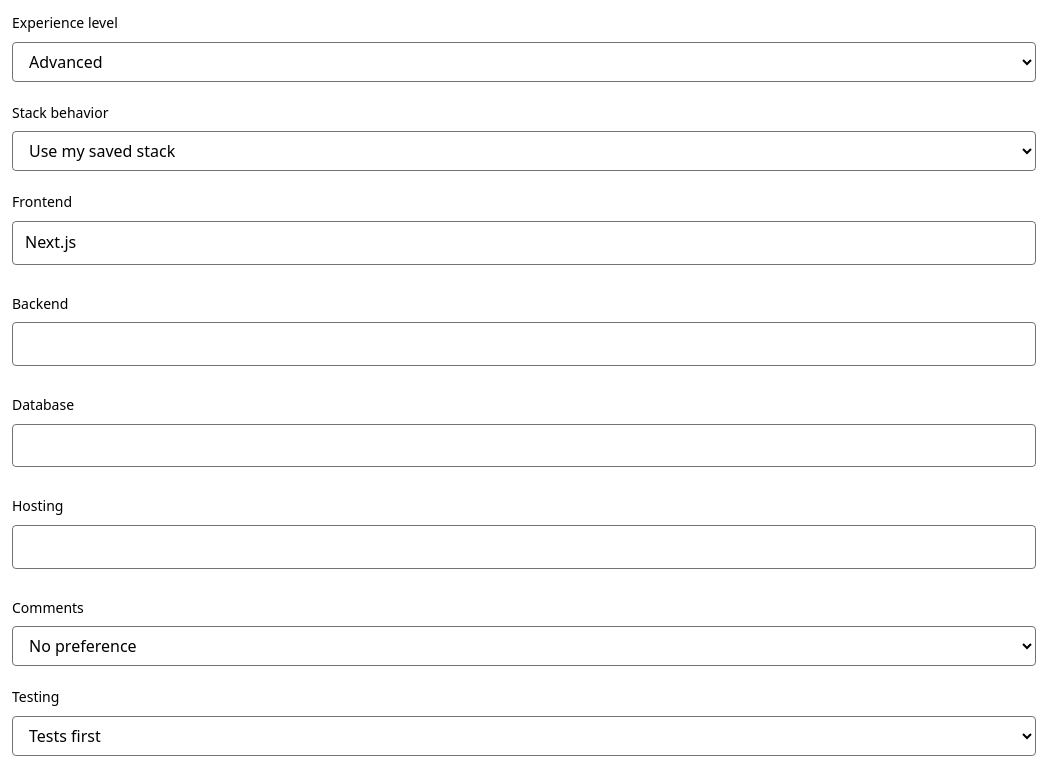
Test: PreferencesForm › puts the complete preference value and refreshes after a successful save
Step 1. Select "Ask me each time" in the dropdown labelled "Stack behavior" → (524, 151), box [12,131,1036,171]
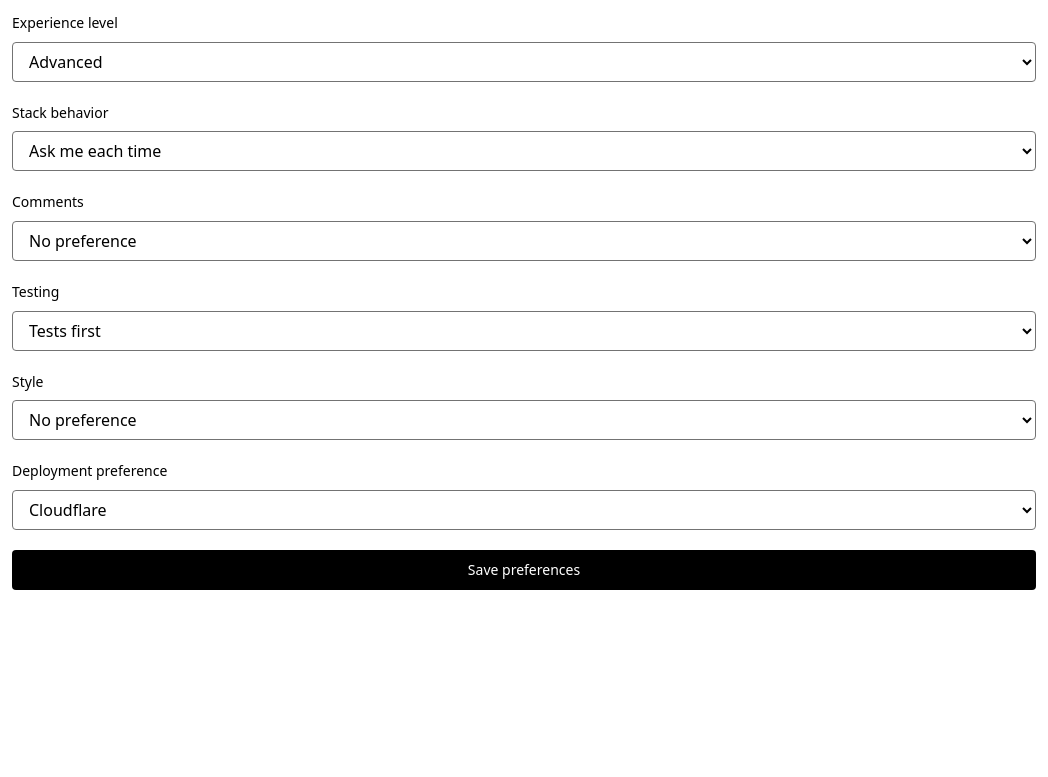
Step 2. Select "Not sure yet" in the dropdown labelled "Deployment preference" → (524, 510), box [12,490,1036,530]
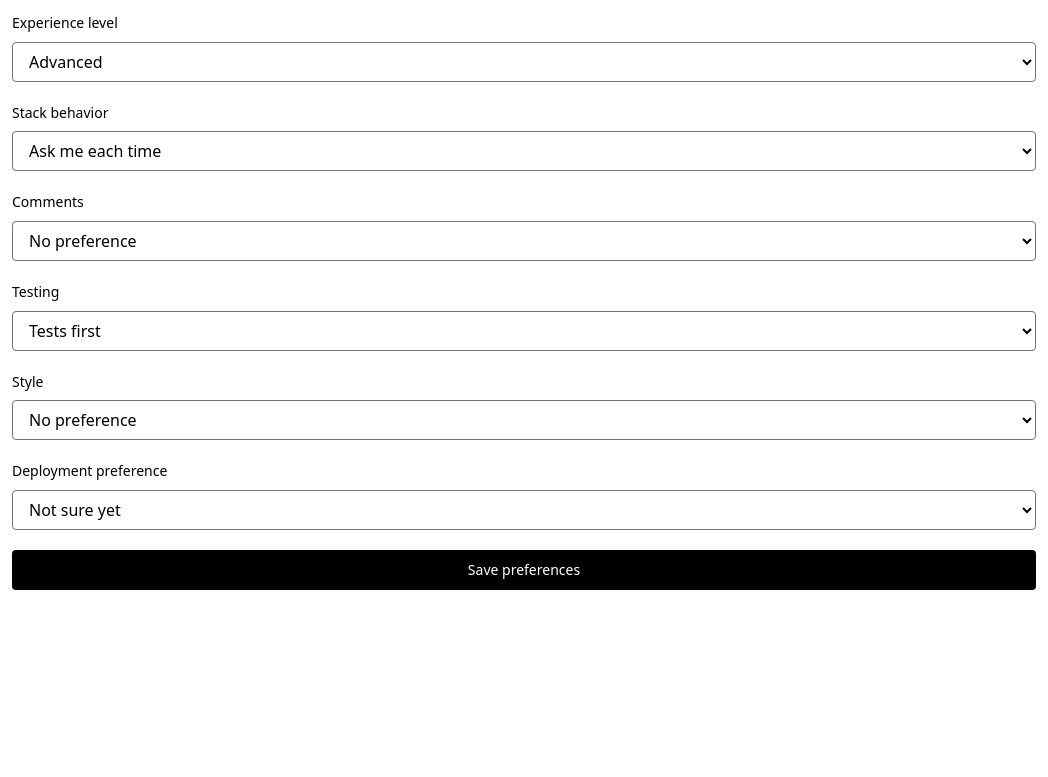
Step 3. Click the button "Save preferences" → (524, 570), box [12,550,1036,590]
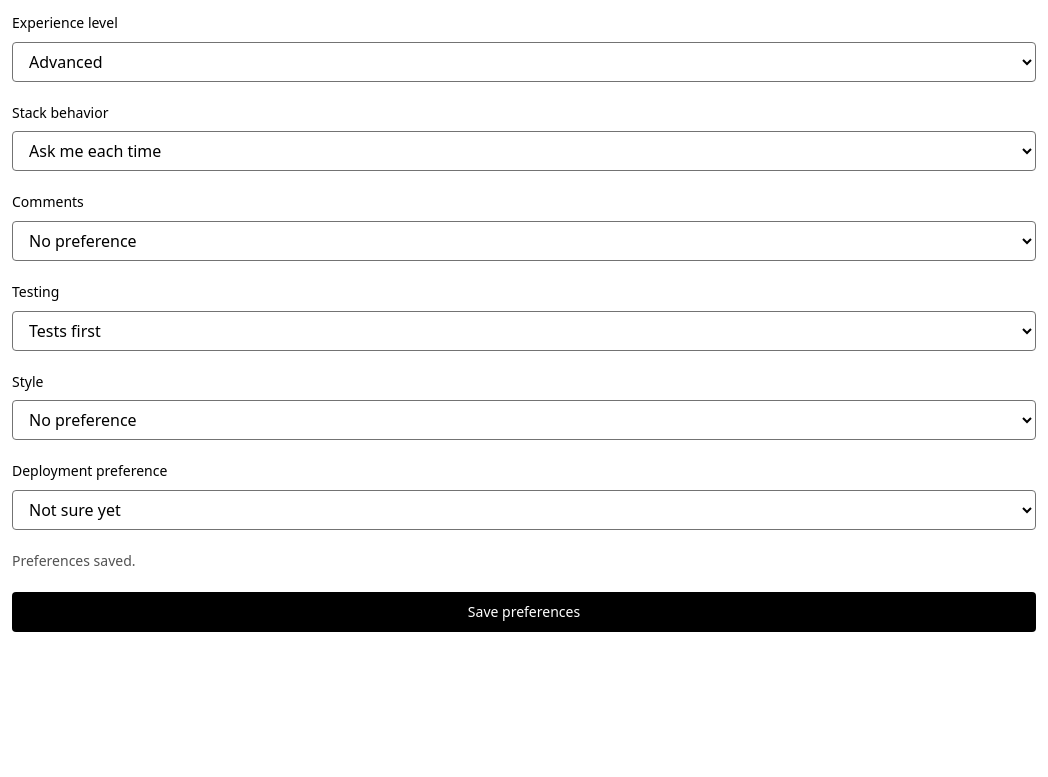
Result: the message reads "Preferences saved." at [12,551,136,570]
